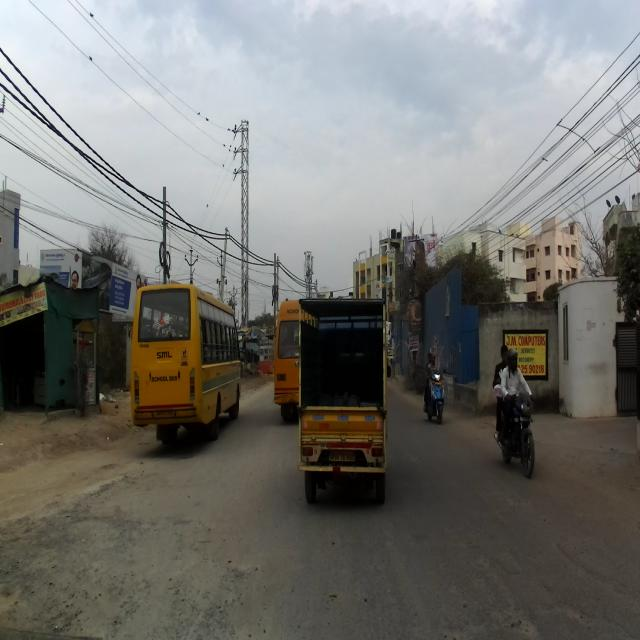bus ahead at: (134, 279, 244, 444)
motorcycle ahead at: (489, 394, 540, 485)
truck ahead at: (301, 295, 387, 493)
